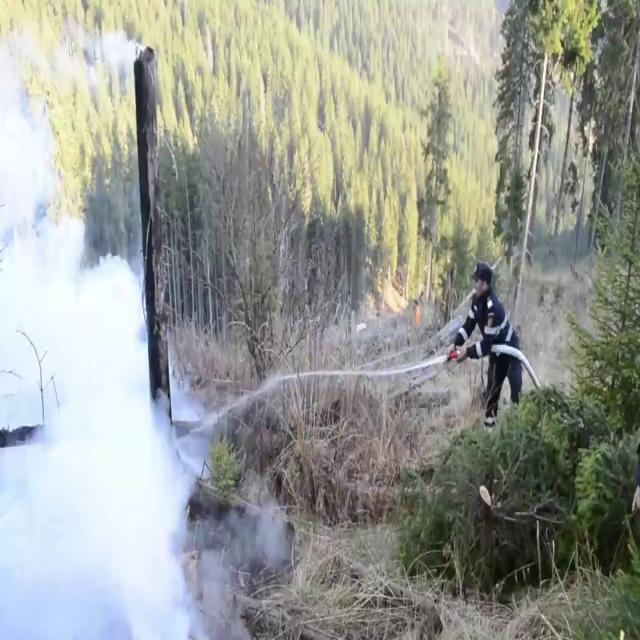Smoke: (0, 11, 212, 639)
